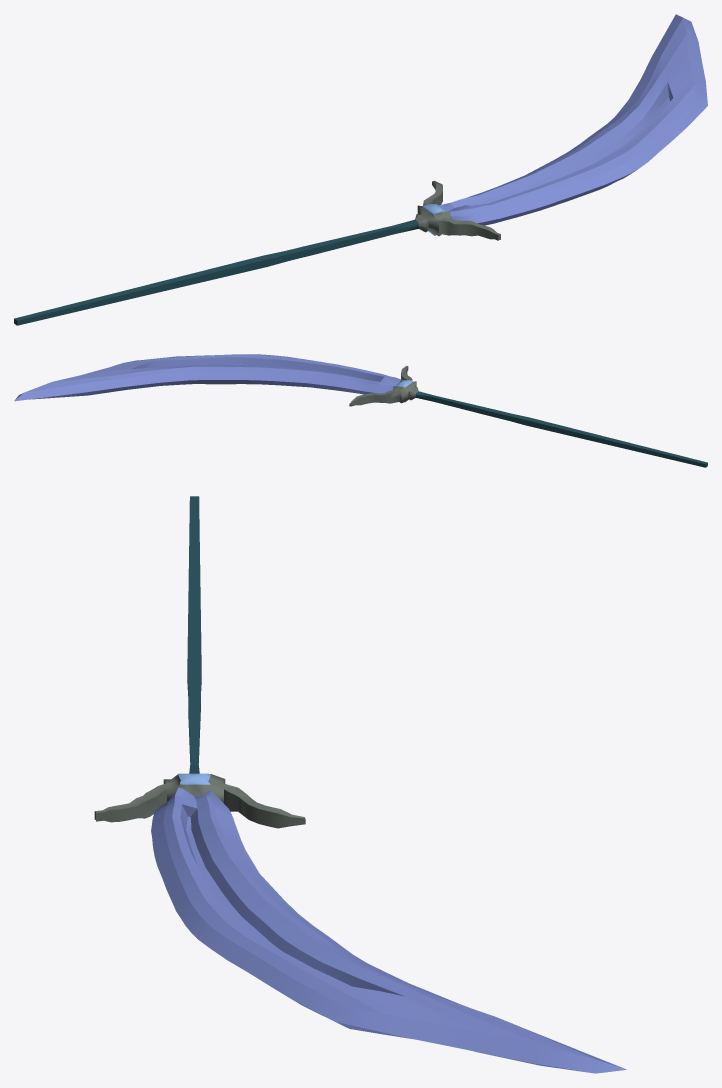
File: weapon.glb
3 views of the same model, one above another, from view 1: azimuth 30°, elevation 25°; view 2: azimuth 150°, elevation 25°; view 3: azimuth 270°, elevation 25° (orthographic). The views are drawn at different scales.
Visible parts, largest first — view 1: weapon; view 2: weapon; view 3: weapon.
Part boxes in pixels (box(x1,y1,x2,y2)): weapon: box(14, 14, 707, 325); weapon: box(14, 354, 707, 467); weapon: box(94, 496, 626, 1073).
Bounding box in the file's own units: 11.13 × 0.3193 × 4.37.
